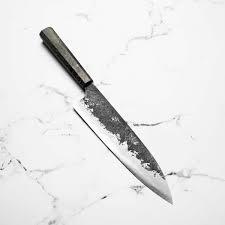Knife: (38, 26, 173, 204)
